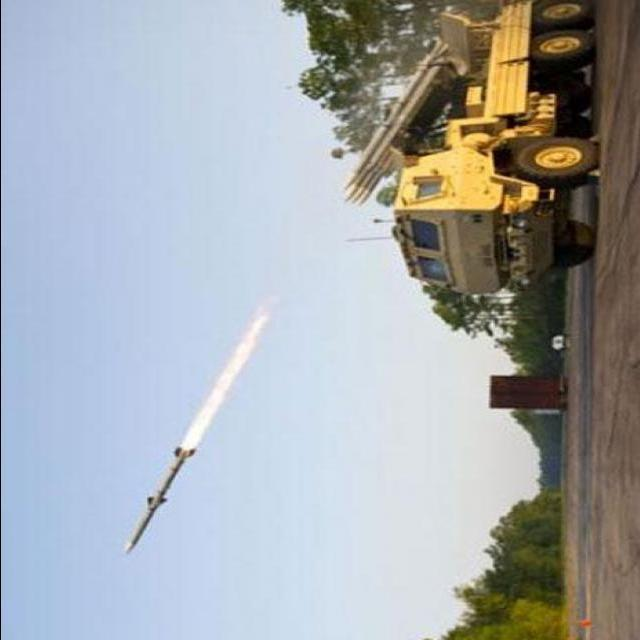Missile: (117, 442, 200, 554)
